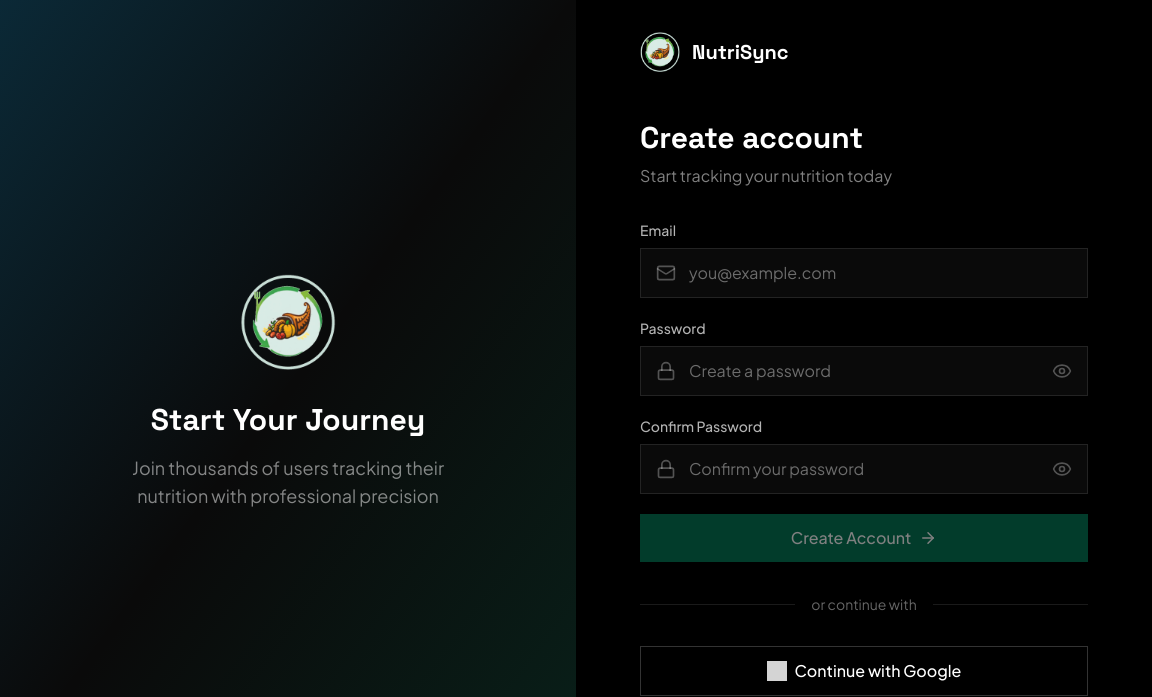
Test case: Register › shows loading state during registration
Type "test@example.com" into the field with placeholder "you@example.com" at [864, 273], box [640,248,1088,298]
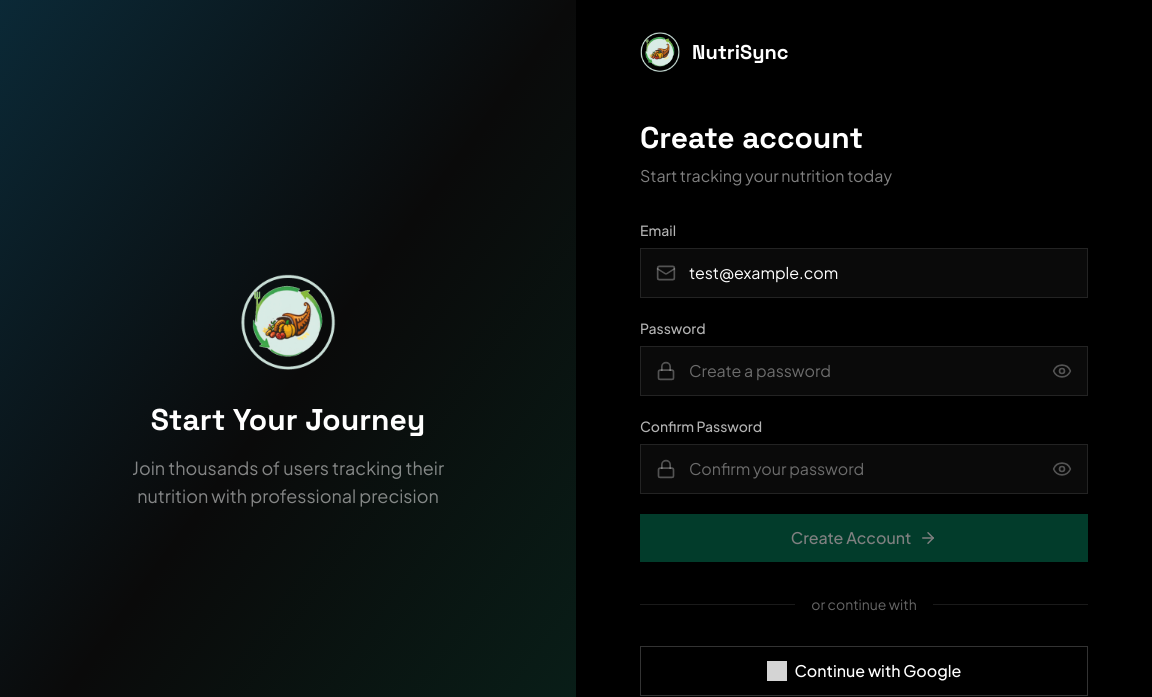
Type "ValidPass123!" into the password field with placeholder "Create a password" at [864, 371], box [640,346,1088,396]
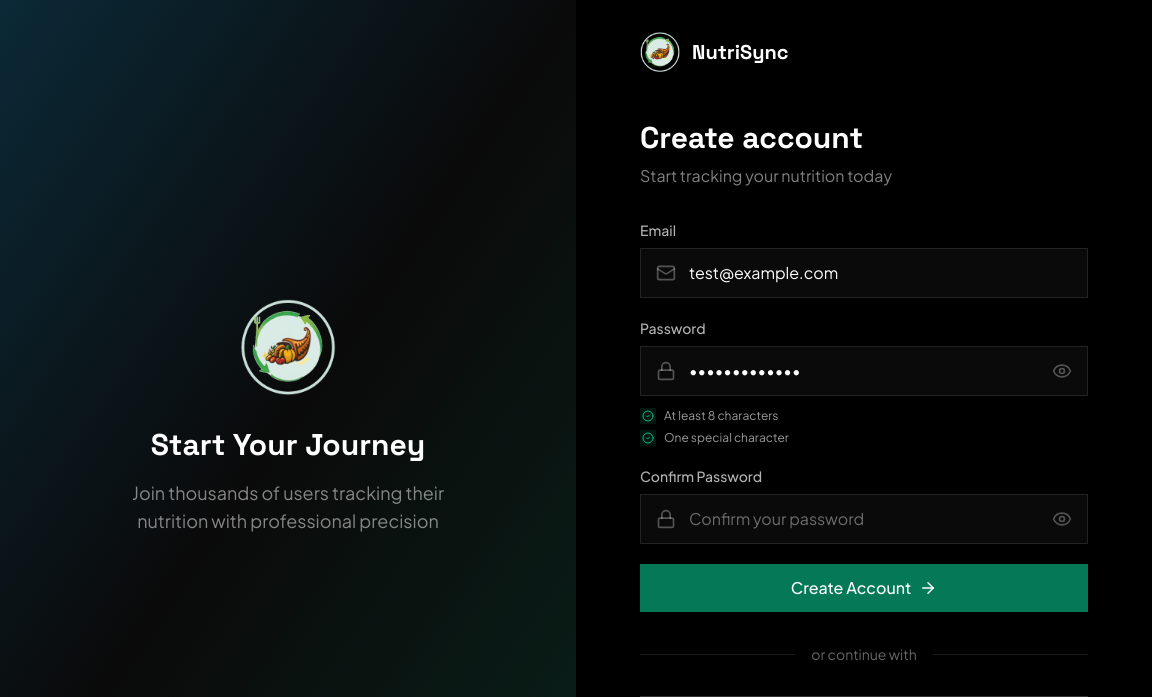
Type "ValidPass123!" into the password field with placeholder "Confirm your password" at [864, 519], box [640,494,1088,544]
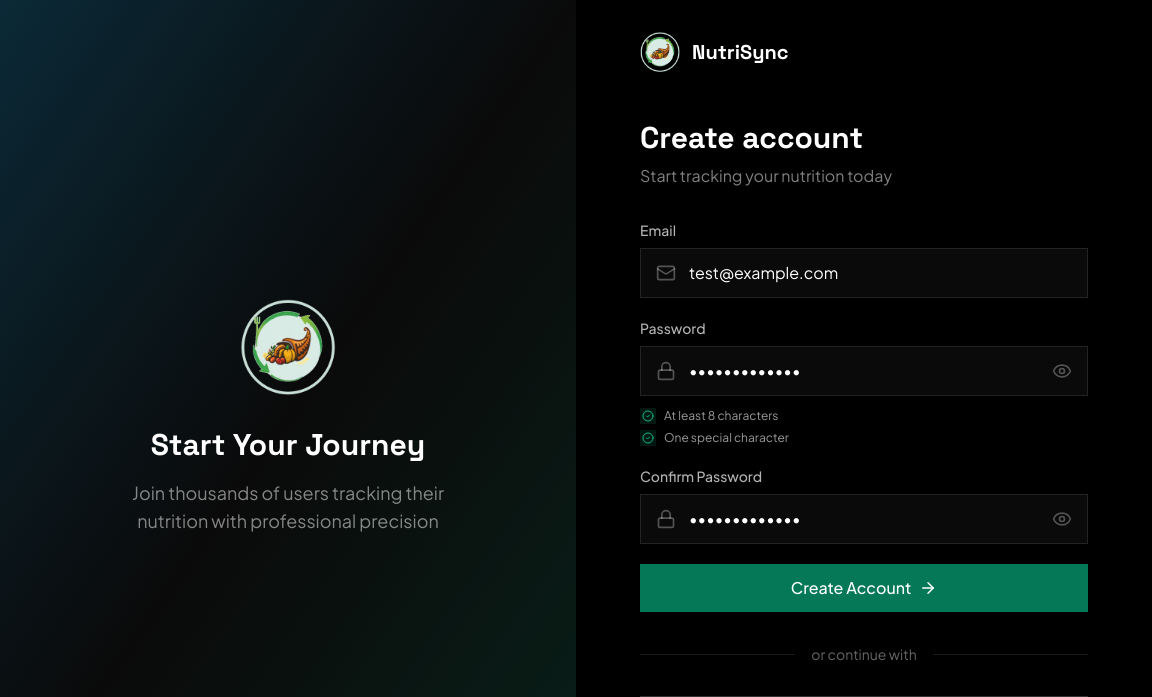
Click the button "Create Account" at [864, 588], box [640,564,1088,612]
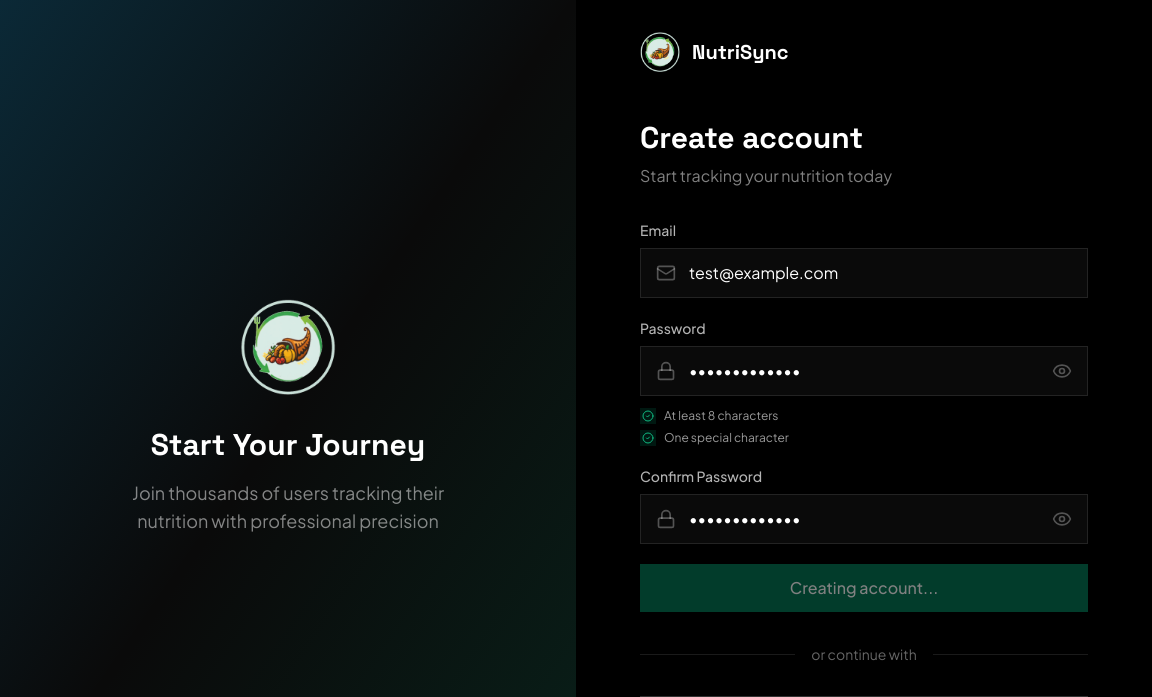
Now the button "Creating account..." is disabled, box [640,564,1088,612]
